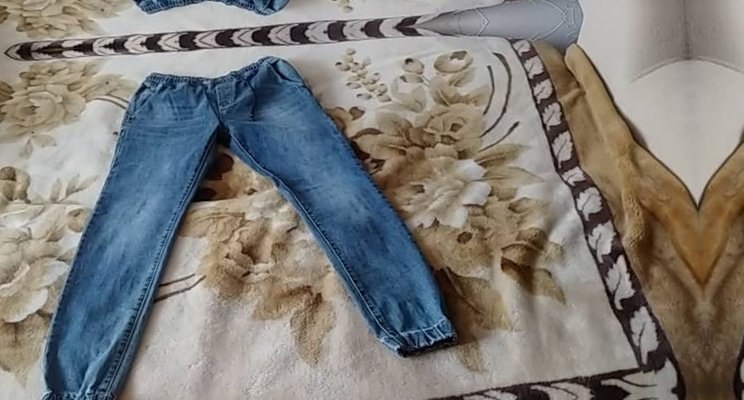Pants: (20, 47, 470, 400), (0, 0, 445, 28)
